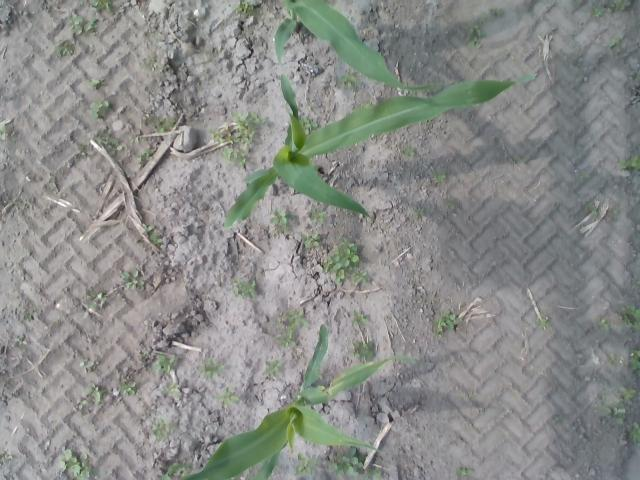Maize: (221, 74, 535, 226), (160, 324, 413, 480), (274, 0, 444, 92)
Weeds: (210, 109, 266, 170), (320, 237, 362, 283), (594, 384, 638, 424), (55, 448, 99, 480), (325, 446, 366, 480), (273, 308, 307, 348), (72, 382, 107, 416), (92, 125, 125, 160), (430, 306, 460, 338), (80, 290, 107, 316), (152, 416, 179, 442), (142, 113, 176, 133), (270, 210, 296, 234), (350, 339, 376, 361), (214, 386, 240, 408), (619, 304, 640, 331), (120, 268, 144, 291), (88, 101, 115, 120), (232, 276, 255, 298), (296, 452, 316, 476), (142, 222, 163, 244), (466, 23, 485, 47), (156, 352, 178, 372), (200, 358, 222, 378), (338, 70, 362, 88), (114, 380, 139, 396), (78, 358, 102, 374), (136, 148, 154, 168), (610, 32, 626, 54), (262, 360, 284, 376), (137, 56, 159, 72), (68, 12, 83, 35), (352, 309, 370, 328), (606, 0, 630, 14), (300, 114, 318, 132), (236, 0, 254, 18), (620, 155, 640, 171), (629, 348, 640, 376), (299, 232, 319, 247), (626, 422, 640, 443), (19, 306, 40, 320), (594, 314, 610, 332), (90, 0, 112, 13), (56, 42, 76, 56), (351, 270, 368, 286), (307, 209, 326, 223), (128, 129, 142, 146), (363, 468, 382, 480), (590, 4, 606, 18), (166, 380, 180, 396), (432, 170, 448, 184), (534, 316, 549, 330), (85, 16, 98, 32), (88, 78, 105, 90), (0, 448, 11, 466), (492, 3, 506, 17), (457, 466, 473, 478), (443, 198, 459, 210), (610, 206, 622, 222), (12, 336, 29, 347), (606, 352, 620, 365), (589, 202, 600, 218), (402, 146, 416, 158), (138, 346, 150, 358), (414, 207, 424, 221), (629, 276, 640, 288), (76, 144, 88, 154), (579, 169, 592, 178), (150, 32, 164, 40), (0, 120, 7, 136), (551, 414, 564, 422), (479, 11, 488, 22), (53, 320, 64, 328), (306, 100, 316, 108), (205, 52, 212, 62), (514, 154, 522, 162), (364, 100, 372, 107)
